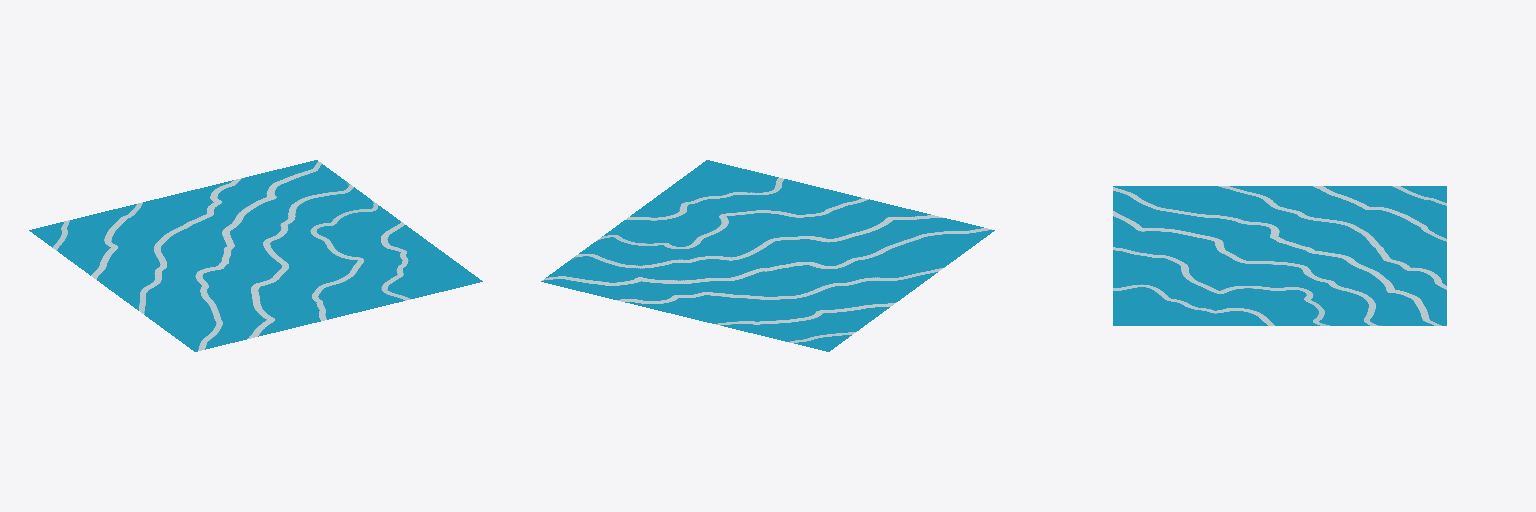
The picture shows the model from 3 angles: view 1: azimuth 30°, elevation 25°; view 2: azimuth 150°, elevation 25°; view 3: azimuth 270°, elevation 25°; orthographic projection.
Parts seen in each view (by area): view 1: Plane; view 2: Plane; view 3: Plane.
Boxes of the visible parts, <box> form: Plane: <box>29,160,482,351</box>; Plane: <box>541,160,994,351</box>; Plane: <box>1113,186,1446,325</box>.
Size of the model in its own units: 2 by 0 by 2.
Materials: 1 (1 with a texture image).